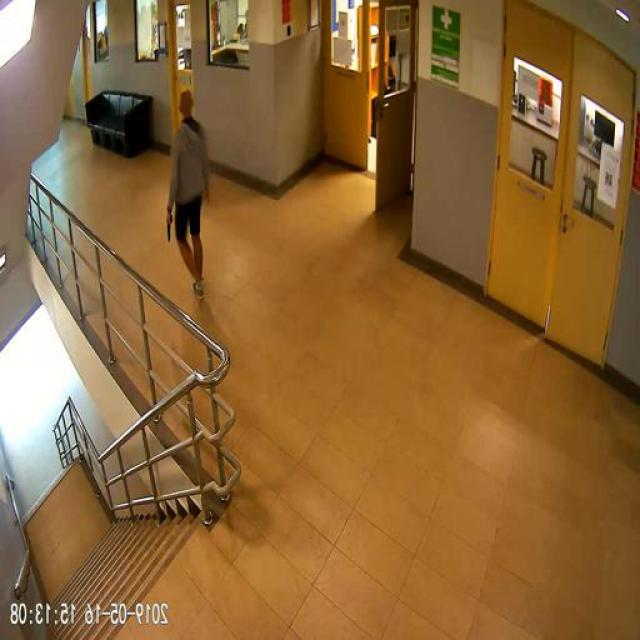Gun: (168, 211, 174, 240)
